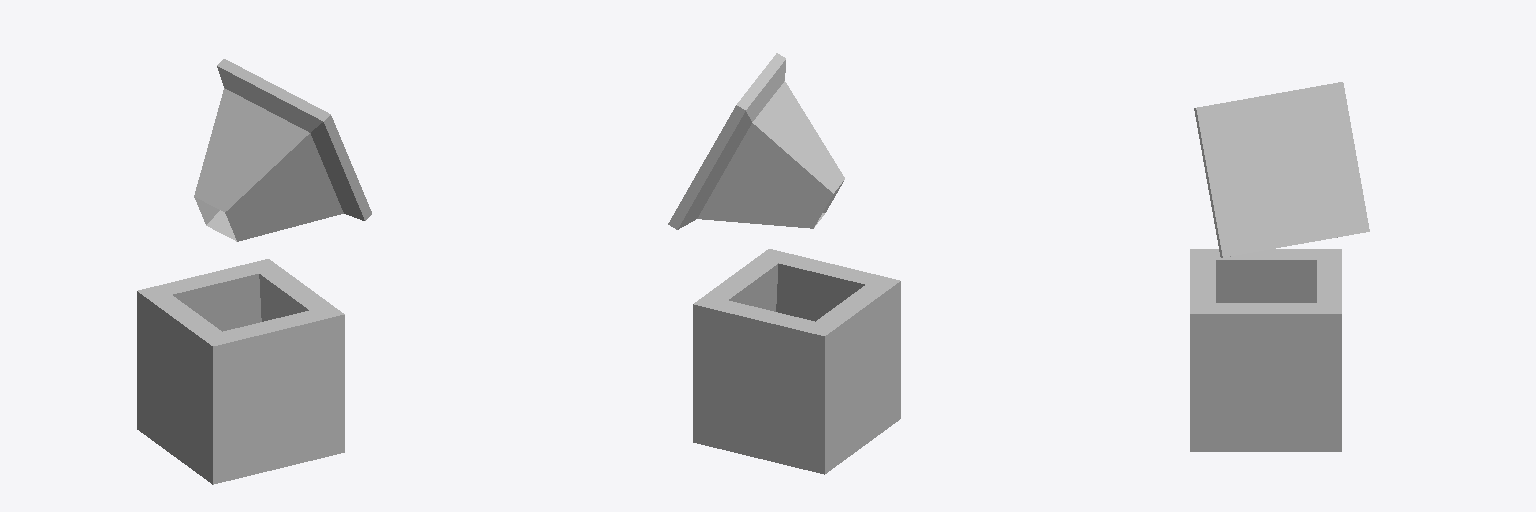
Rendered from AnimatedBox_000062.obj.
3 renders of one model, left to right at view 1: azimuth 30°, elevation 25°; view 2: azimuth 150°, elevation 25°; view 3: azimuth 270°, elevation 25°, orthographic.
Visible parts, largest first — view 1: Cube, Cube.001; view 2: Cube, Cube.001; view 3: Cube, Cube.001.
Part boxes in pixels (bbox=[...]): Cube: bbox=[137, 259, 344, 484]; Cube.001: bbox=[194, 59, 371, 241]; Cube: bbox=[693, 249, 900, 474]; Cube.001: bbox=[668, 53, 844, 229]; Cube: bbox=[1190, 249, 1341, 451]; Cube.001: bbox=[1194, 82, 1369, 257].
Bounding box in the file's own units: 2.67 × 5.05 × 2.36.